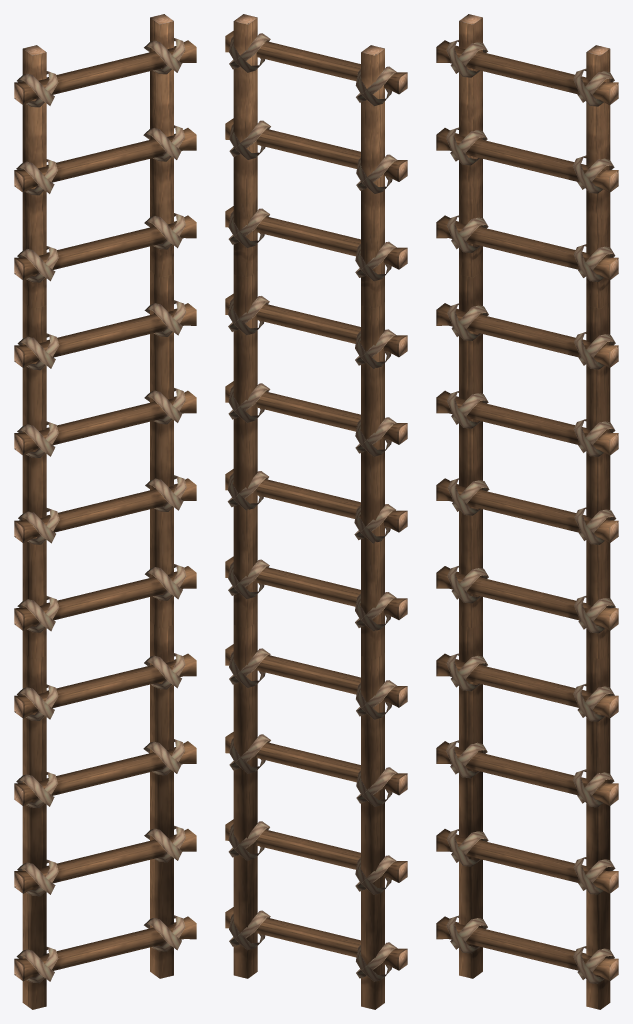
The model's file is ladder_4m.fbx.
3 renders of one model, left to right at view 1: azimuth 30°, elevation 25°; view 2: azimuth 150°, elevation 25°; view 3: azimuth 330°, elevation 25°, orthographic.
Parts seen in each view (by area): view 1: ladder; view 2: ladder; view 3: ladder.
Part boxes in pixels (x1,y1,x2,y2): ladder: [14, 14, 196, 1009]; ladder: [225, 14, 407, 1009]; ladder: [436, 14, 618, 1009].
Bounding box in the file's own units: 76.22 × 400 × 14.56.
